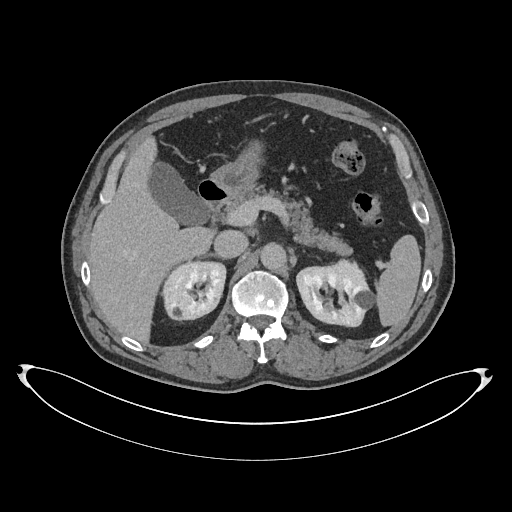Lesion: (350, 290, 379, 312)
